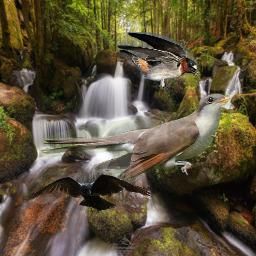Crow: (22, 173, 152, 218)
Cuckoo: (39, 93, 230, 191)
Swallow: (117, 32, 198, 93)
